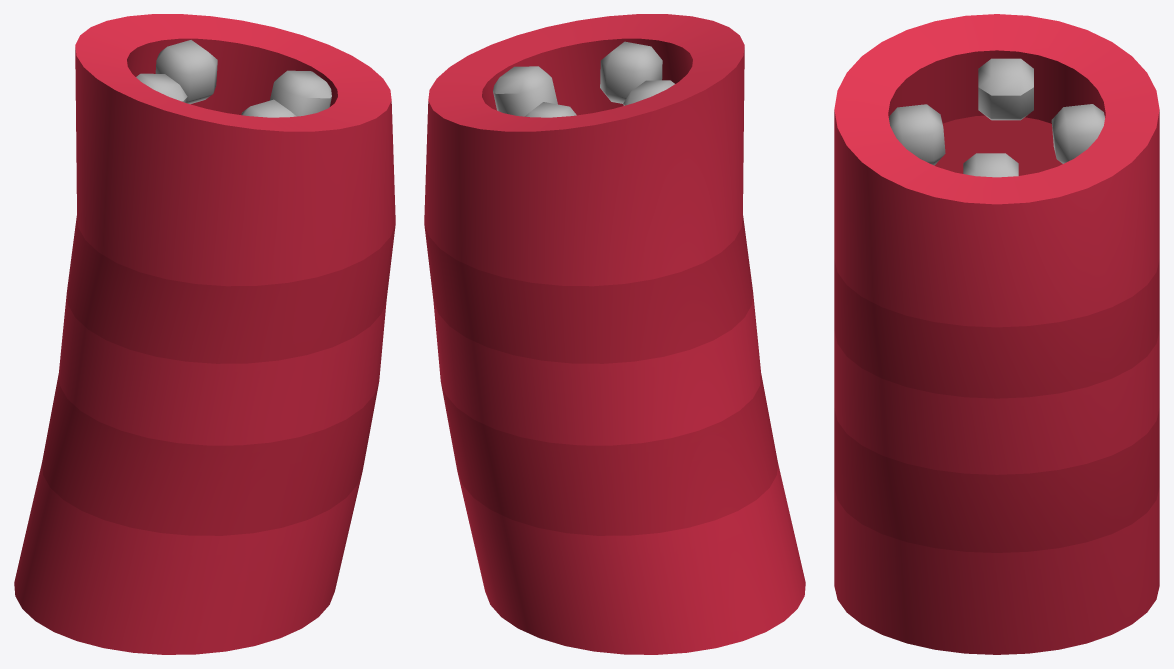
The model's file is Worm1.fbx.
3 renders of one model, left to right at view 1: azimuth 30°, elevation 25°; view 2: azimuth 150°, elevation 25°; view 3: azimuth 270°, elevation 25°, orthographic.
Parts seen in each view (by area): view 1: Worm1; view 2: Worm1; view 3: Worm1.
Part boxes in pixels (x1,y1,x2,y2): Worm1: (14, 14, 395, 654); Worm1: (424, 14, 805, 654); Worm1: (834, 14, 1159, 654).
Bounding box in the file's own units: 0.5542 × 0.8239 × 0.4549.
